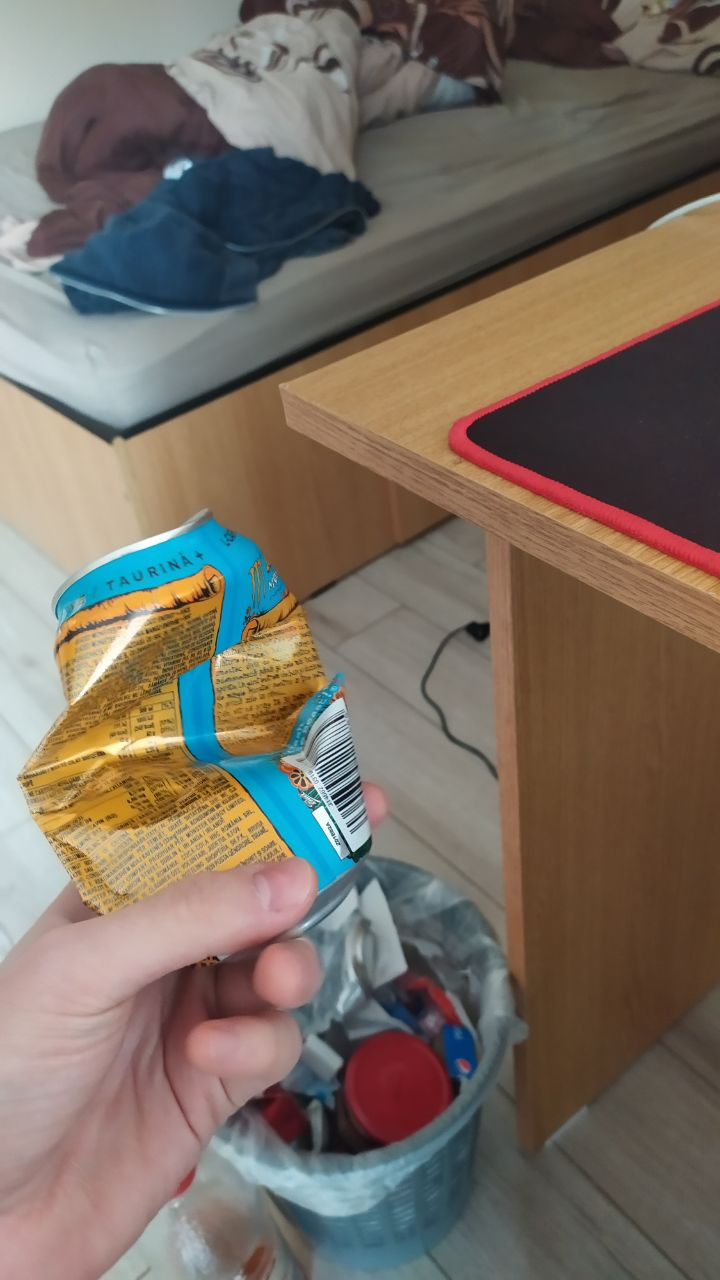Can: (15, 500, 375, 971)
